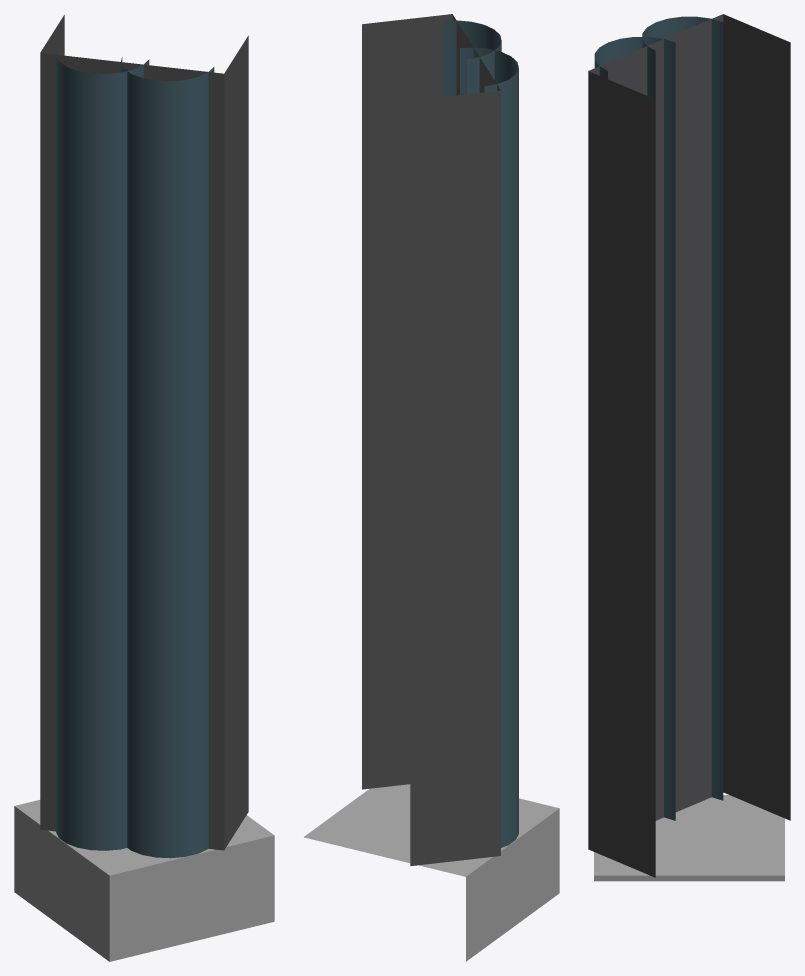
File: Corner Textured.fbx
3 renders of one model, left to right at view 1: azimuth 30°, elevation 25°; view 2: azimuth 150°, elevation 25°; view 3: azimuth 270°, elevation 25°, orthographic.
Parts seen in each view (by area): view 1: Corner; view 2: Corner; view 3: Corner.
Part boxes in pixels (x1=…): Corner: x1=14, y1=15, x2=274, y2=961; Corner: x1=304, y1=14, x2=559, y2=961; Corner: x1=588, y1=14, x2=790, y2=881.
Size of the model in its own units: 2.12 by 10 by 2.12.
